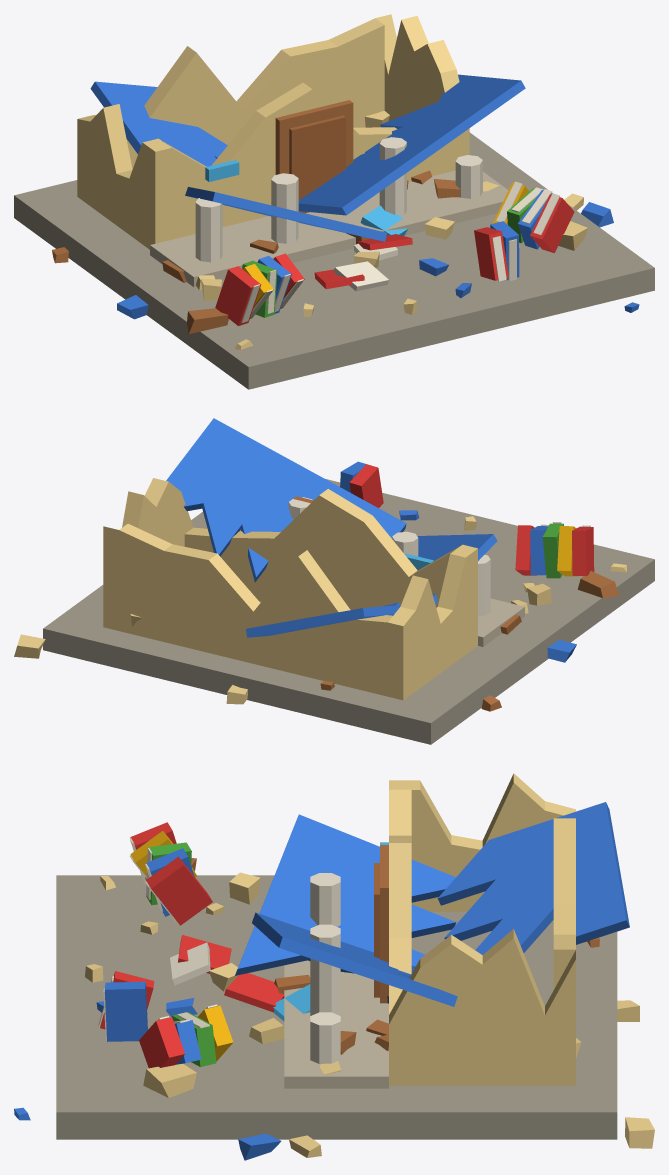
File: library_t2_v1_dmg2.glb
3 views of the same model, one above another, from view 1: azimuth 30°, elevation 25°; view 2: azimuth 150°, elevation 25°; view 3: azimuth 270°, elevation 25° (orthographic). The views are drawn at different scales.
Visible parts, largest first — view 1: library_t2_v1_dmg2; view 2: library_t2_v1_dmg2; view 3: library_t2_v1_dmg2.
Boxes of the visible parts, x1=… form: library_t2_v1_dmg2: x1=14, y1=14, x2=654, y2=389; library_t2_v1_dmg2: x1=14, y1=418, x2=654, y2=744; library_t2_v1_dmg2: x1=14, y1=773, x2=654, y2=1160.
Size of the model in its own units: 0.8589 by 0.265 by 0.857.
Materials: 1 (1 with a texture image).
